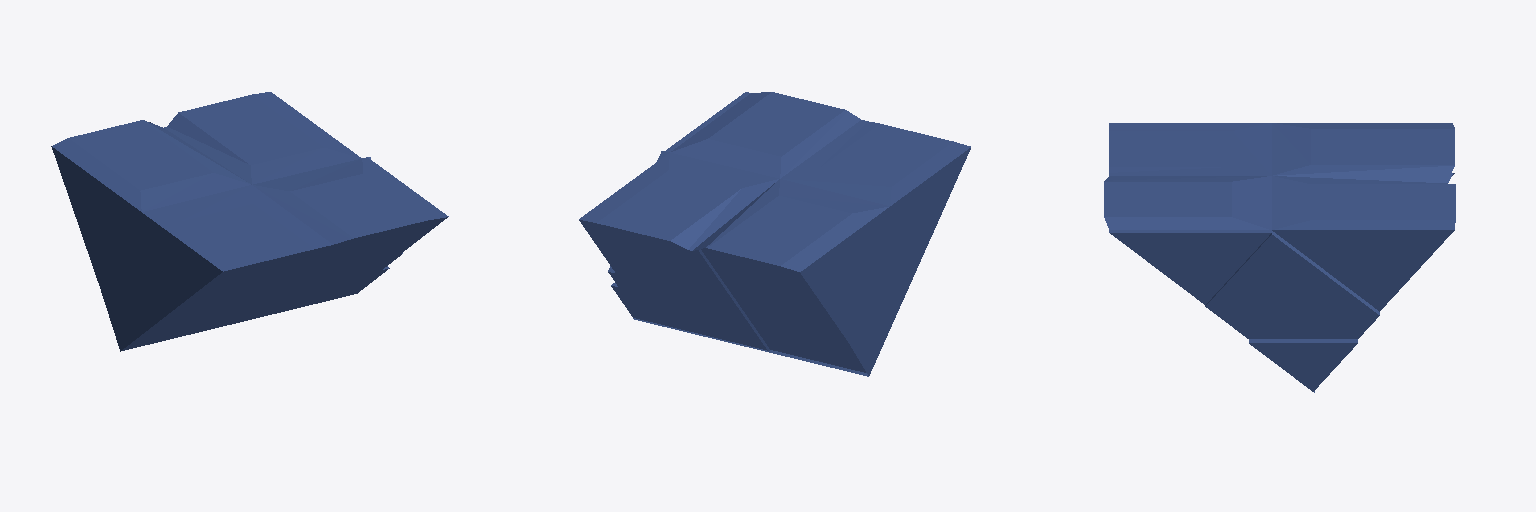
File: pillar_11.obj
The picture shows the model from 3 angles: view 1: azimuth 30°, elevation 25°; view 2: azimuth 150°, elevation 25°; view 3: azimuth 270°, elevation 25°; orthographic projection.
Visible parts, largest first — view 1: Cube.032_Cube.033; view 2: Cube.032_Cube.033; view 3: Cube.032_Cube.033.
Boxes of the visible parts, box(x1,y1,x2,y2) form: Cube.032_Cube.033: box(51, 92, 448, 351); Cube.032_Cube.033: box(579, 92, 970, 376); Cube.032_Cube.033: box(1104, 123, 1455, 392).
Size of the model in its own units: 1.55 by 0.9924 by 1.99.